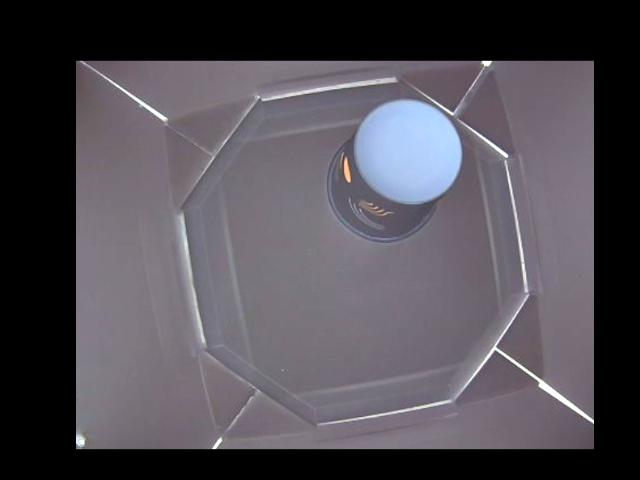Cup: (324, 97, 463, 242)
